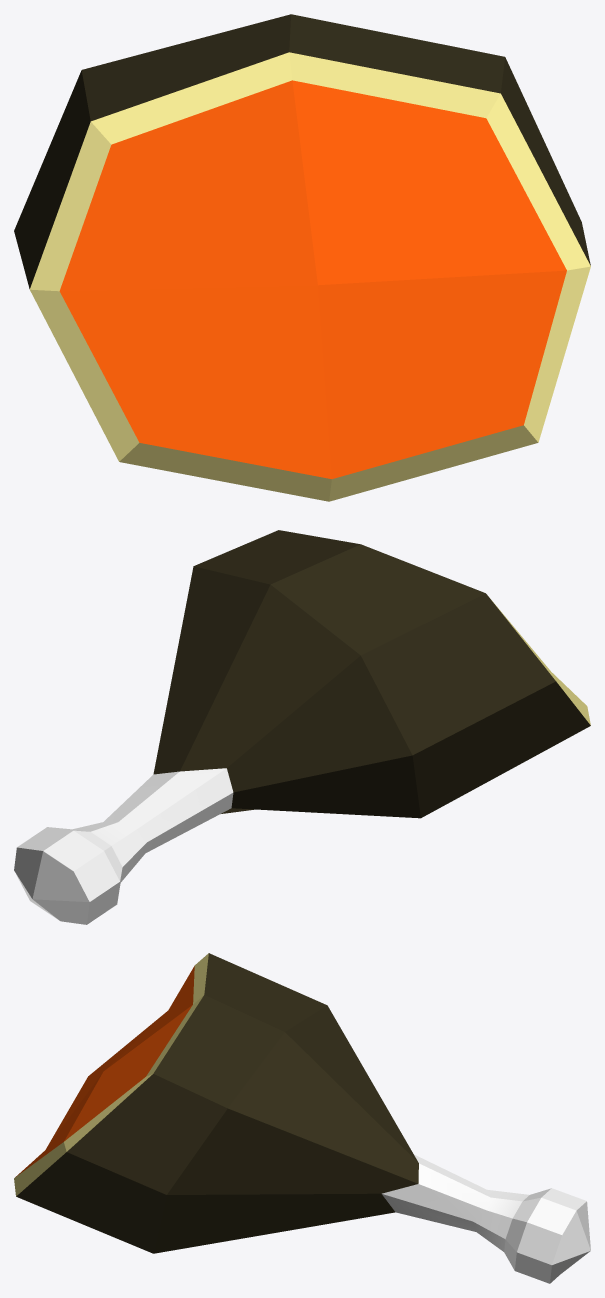
The model's file is food_pork.fbx.
3 renders of one model, top to bottom at view 1: azimuth 30°, elevation 25°; view 2: azimuth 150°, elevation 25°; view 3: azimuth 270°, elevation 25°, orthographic. The views are drawn at different scales.
Parts seen in each view (by area): view 1: pCube4; view 2: pCube4; view 3: pCube4.
Part boxes in pixels (bbox=[...]): pCube4: bbox=[14, 14, 590, 501]; pCube4: bbox=[14, 530, 590, 924]; pCube4: bbox=[14, 953, 590, 1283].
Size of the model in its own units: 86.88 by 60.67 by 136.
1 material, 1 textured.
